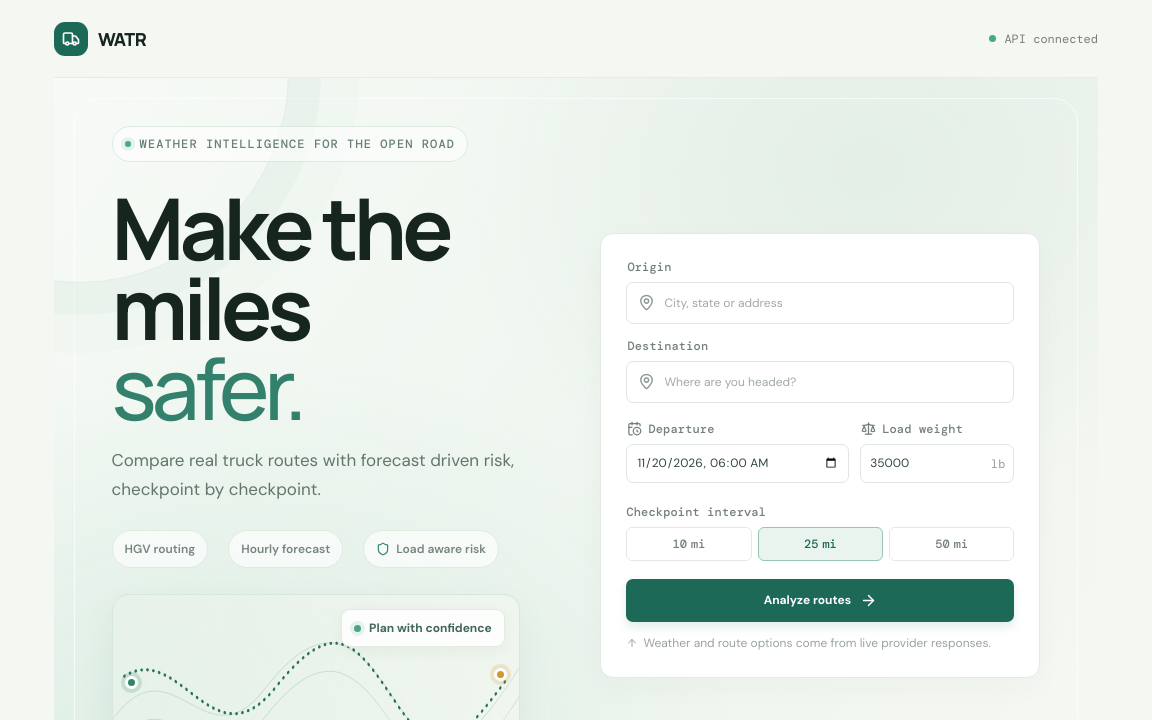
Test: trip planning and visualization controls › renders a real API error instead of replacing it with a successful analysis
The width and height of the screenshot is (1152, 720).
Type "Portland" into the field with placeholder "City, state or address" at (833, 303), box [664,294,1002,312]
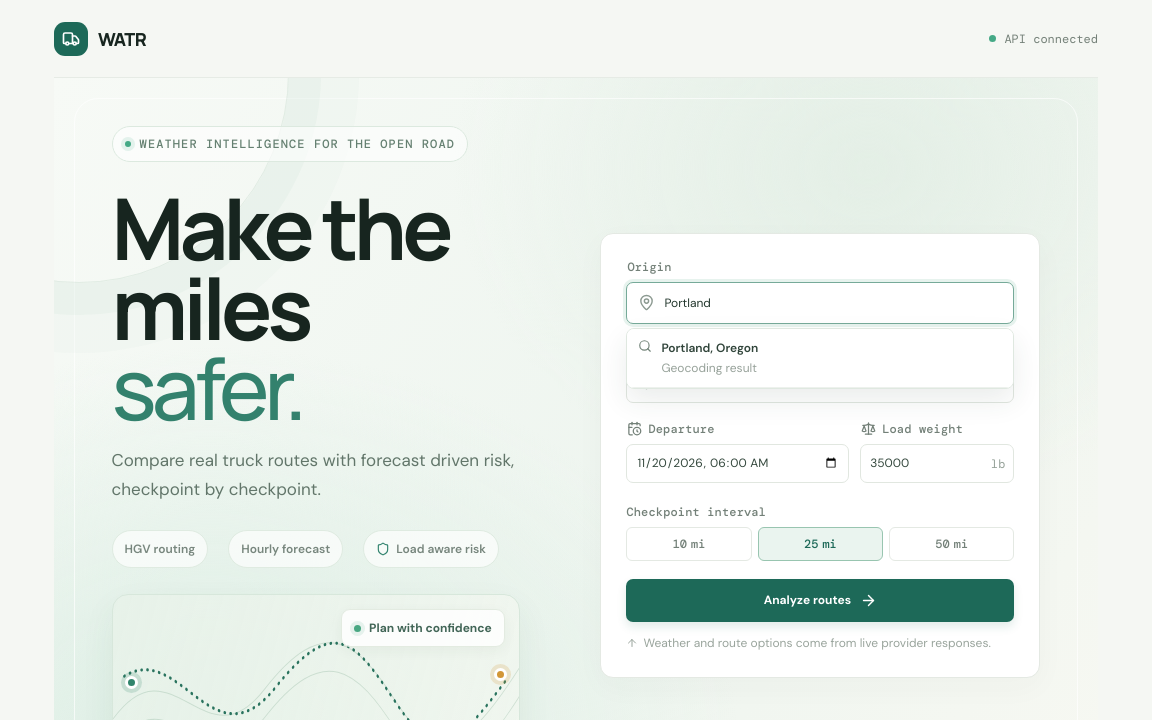
Click the option "Portland, Oregon Geocoding result" at (710, 348), box [627,329,1013,388]
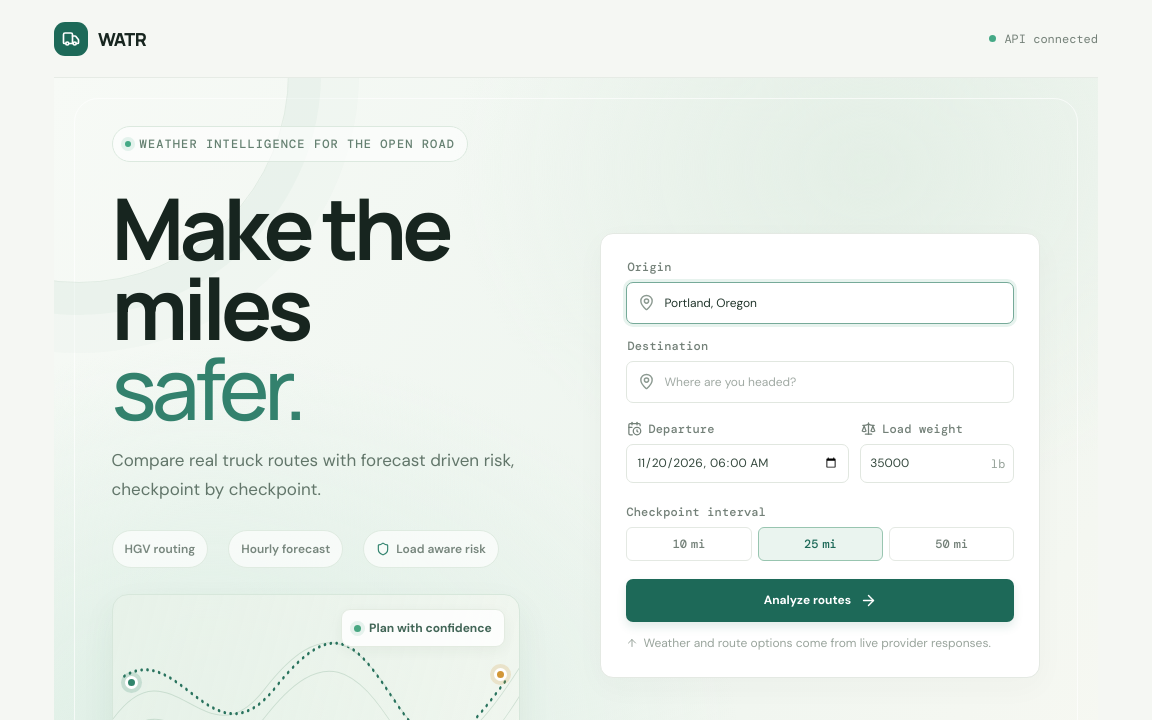
Type "Seattle" into the field with placeholder "Where are you headed?" at (833, 382), box [664,373,1002,391]
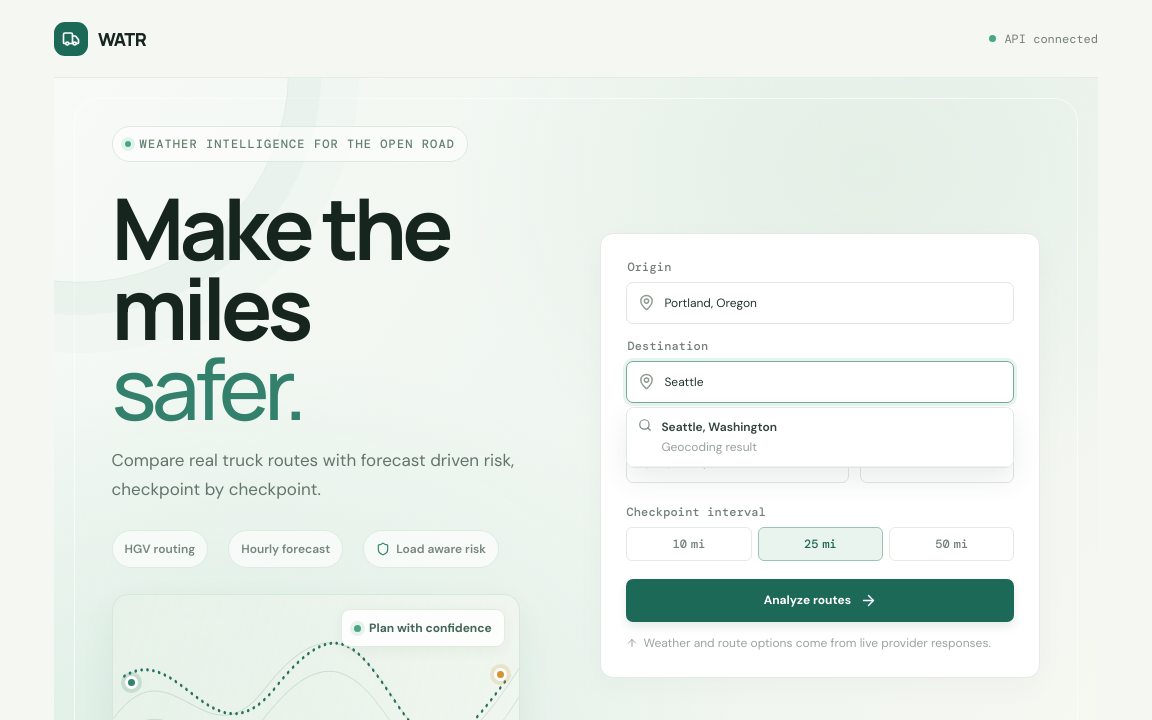
Click the option "Seattle, Washington Geocoding result" at (719, 427), box [627,408,1013,467]
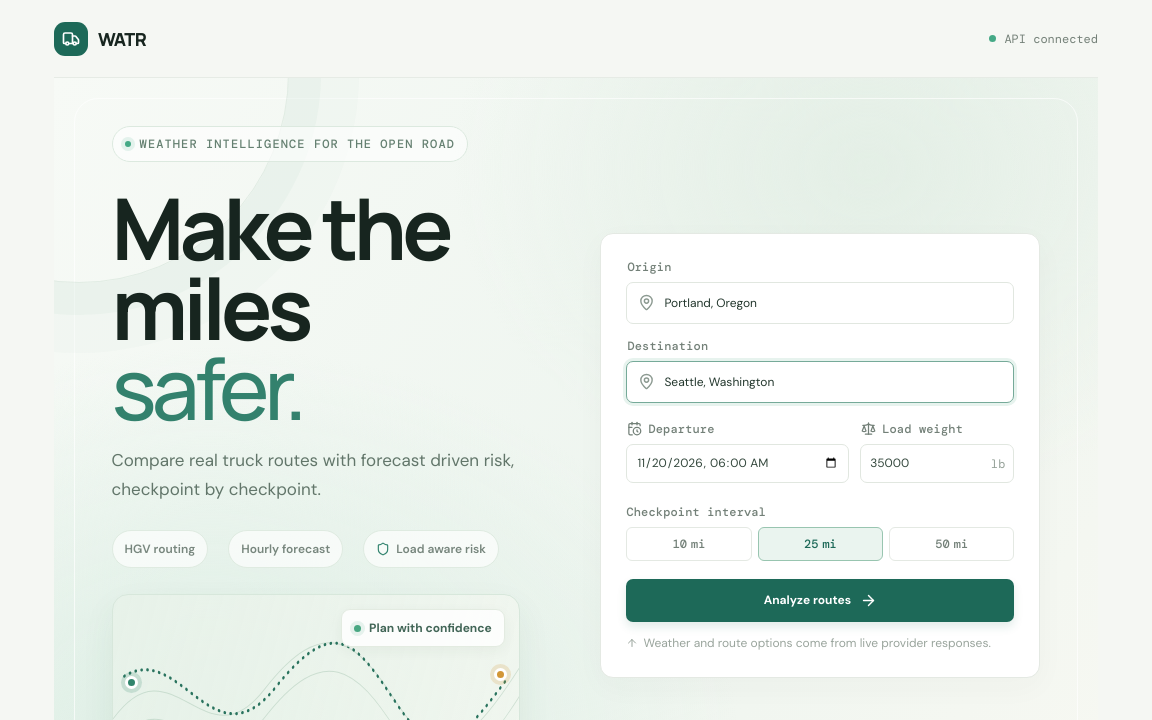
Click the button "Analyze routes" at (820, 600), box [626,579,1014,622]
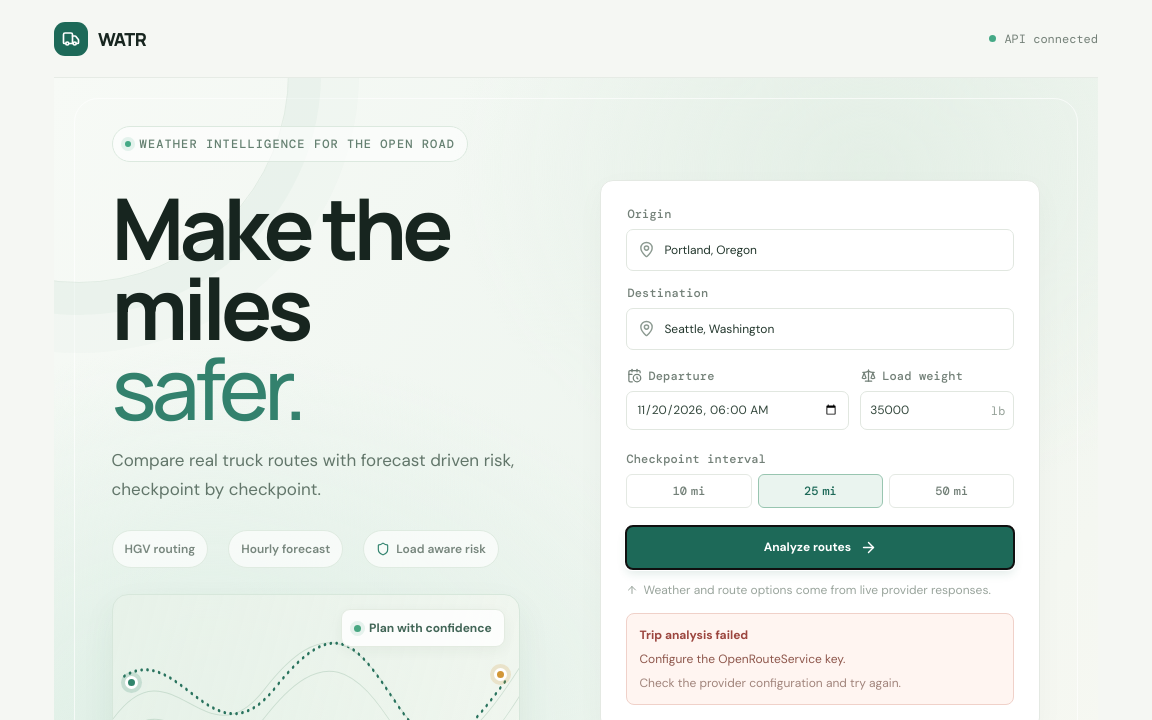
Result: the text "Configure the OpenRouteService key." is shown at [639,651,846,667]
